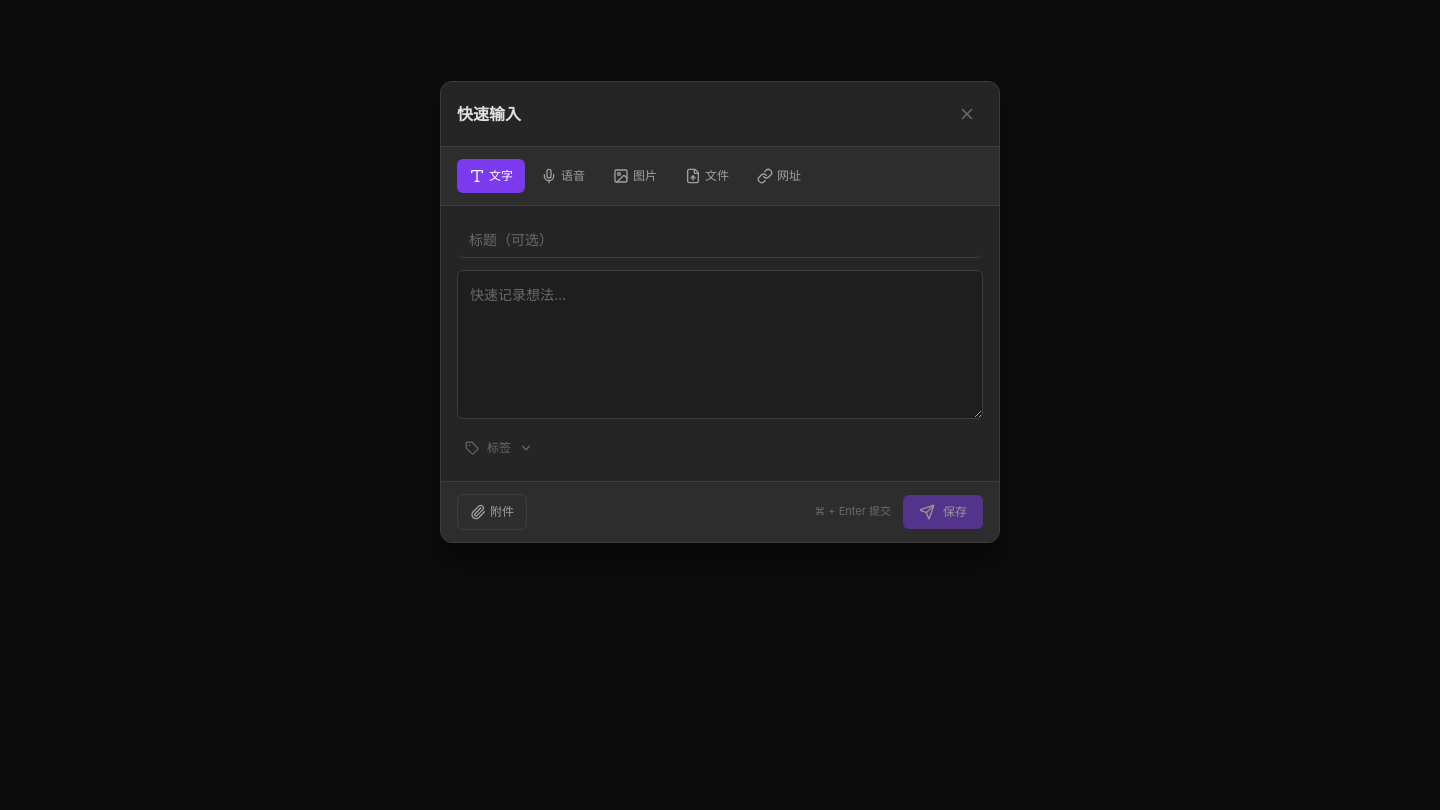
Test: QuickInput 录音 › 正常停止录音后生成录音附件并释放麦克风
The image size is (1440, 810).
Click the button "语音" at (563, 176), box top-left (529, 159), bottom-right (597, 193)
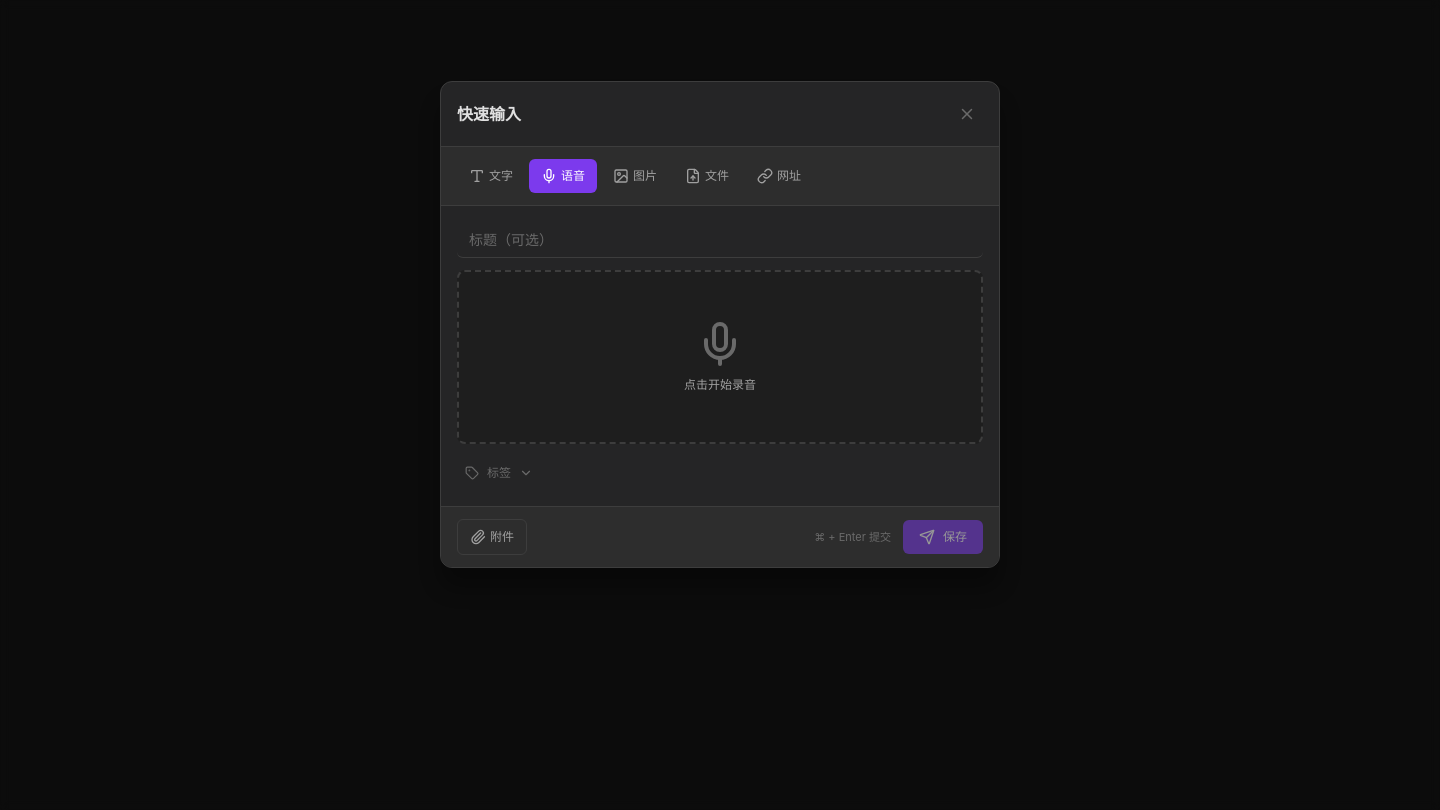
Click the button "点击开始录音" at (720, 357), box top-left (668, 304), bottom-right (772, 410)
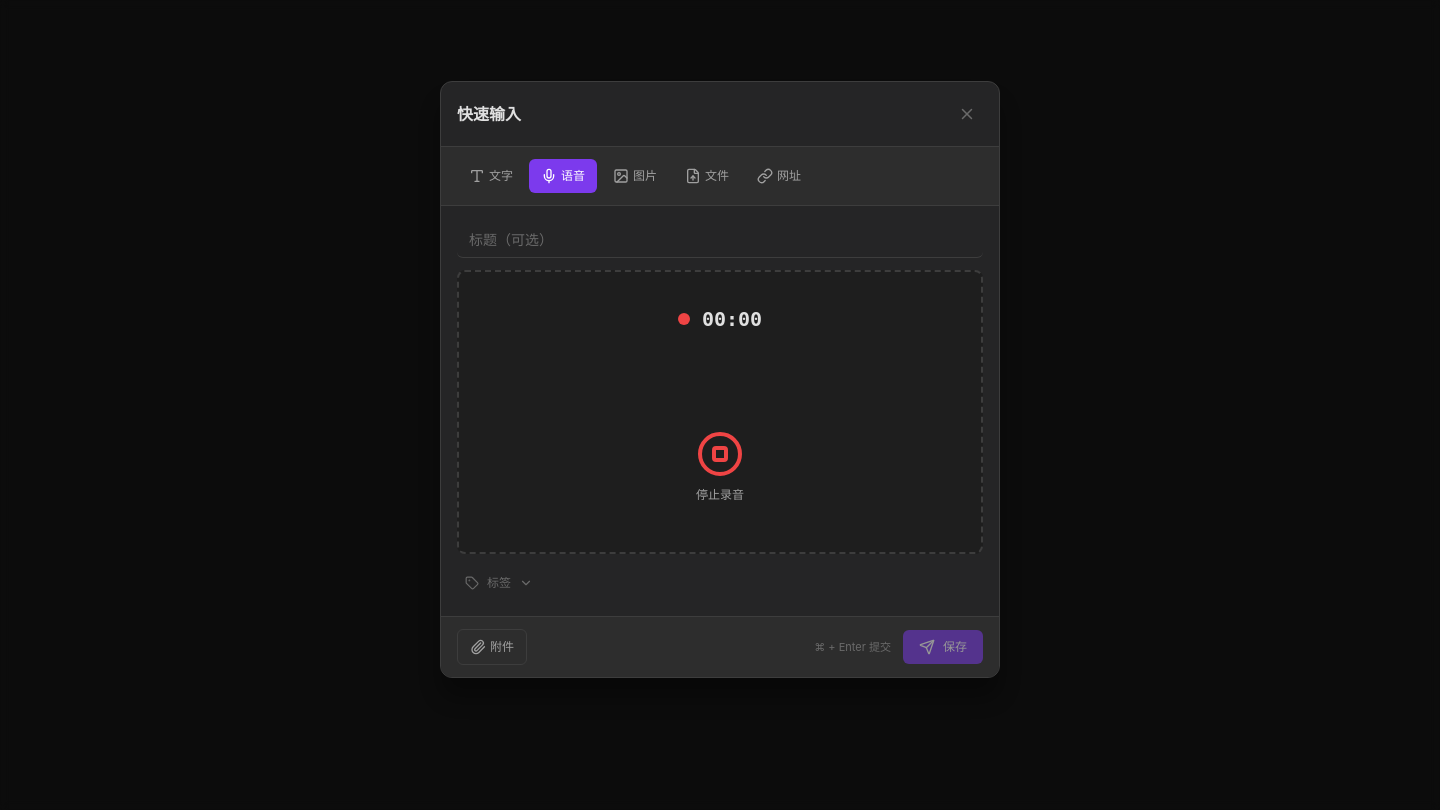
Click the button "停止录音" at (720, 467), box top-left (680, 414), bottom-right (760, 520)
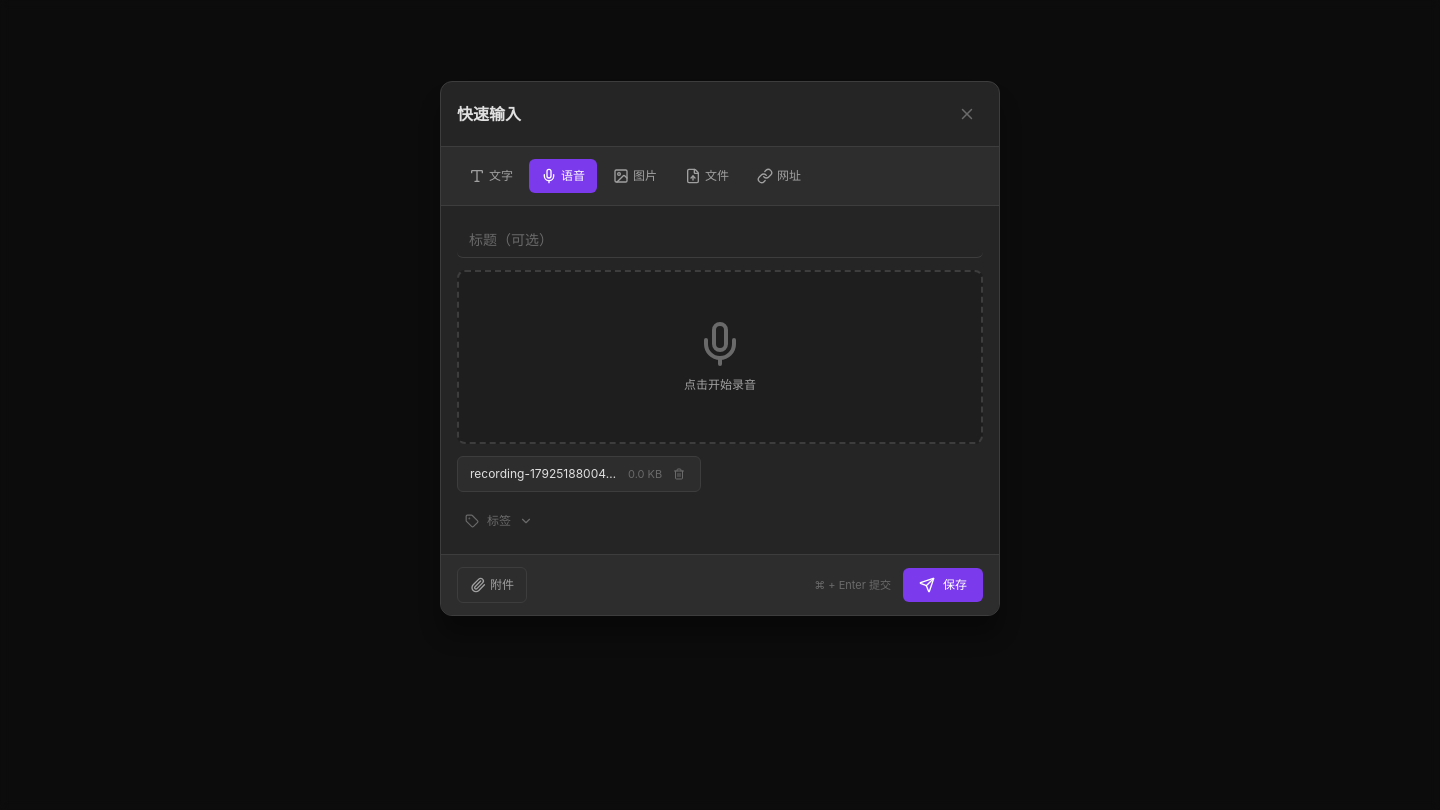
Expected: the text "recording-1792518800415.webm" is shown, top-left (470, 465), bottom-right (620, 483)
